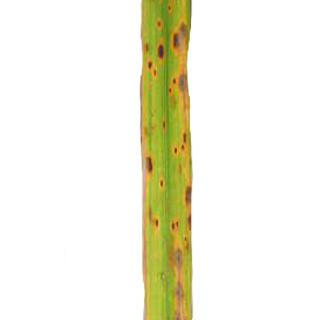bercak-Cokelat: (182, 184, 196, 232), (169, 242, 181, 298), (172, 131, 185, 160), (171, 26, 184, 54), (167, 216, 184, 236), (164, 2, 179, 20), (144, 152, 155, 176), (156, 44, 168, 65), (157, 178, 170, 193), (154, 19, 167, 32), (153, 217, 161, 231)
